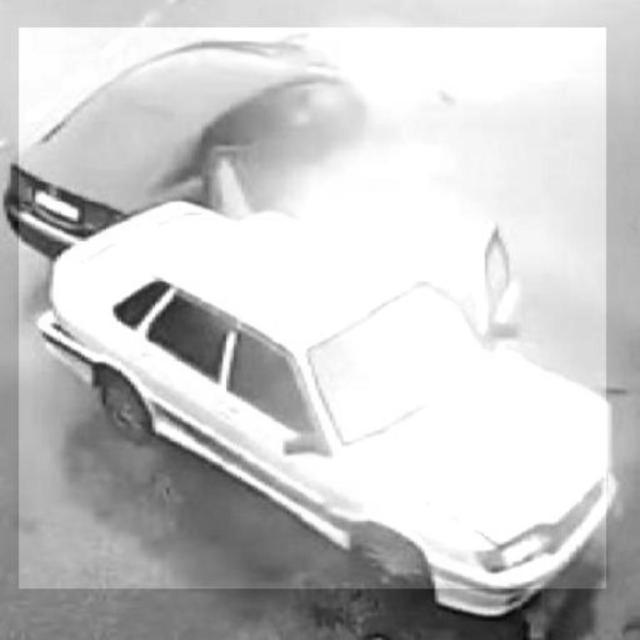accident: (18, 28, 606, 589)
